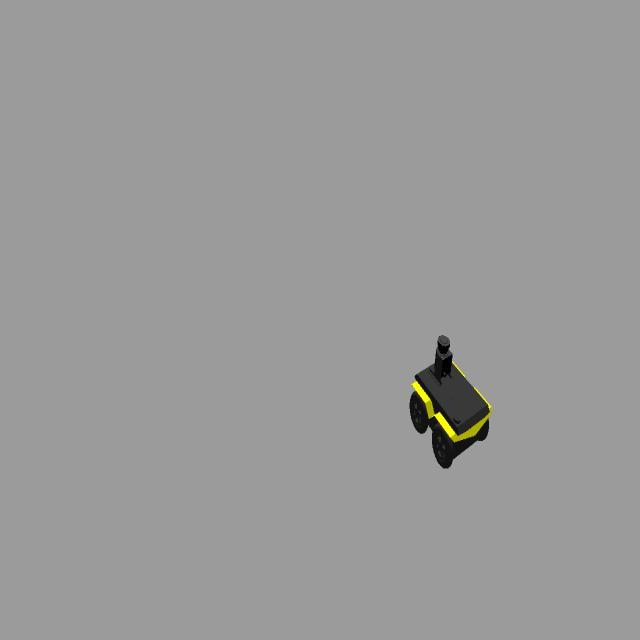jackal: (410, 334, 491, 470)
